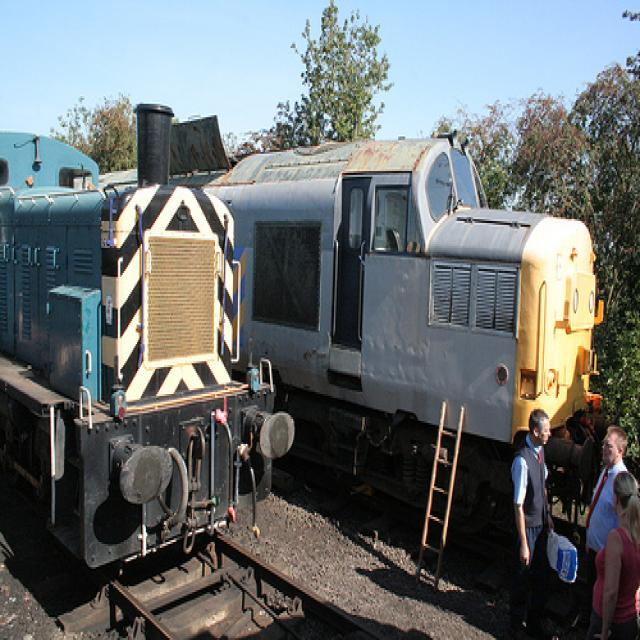locomotive: (248, 108, 606, 524), (0, 98, 288, 586)
